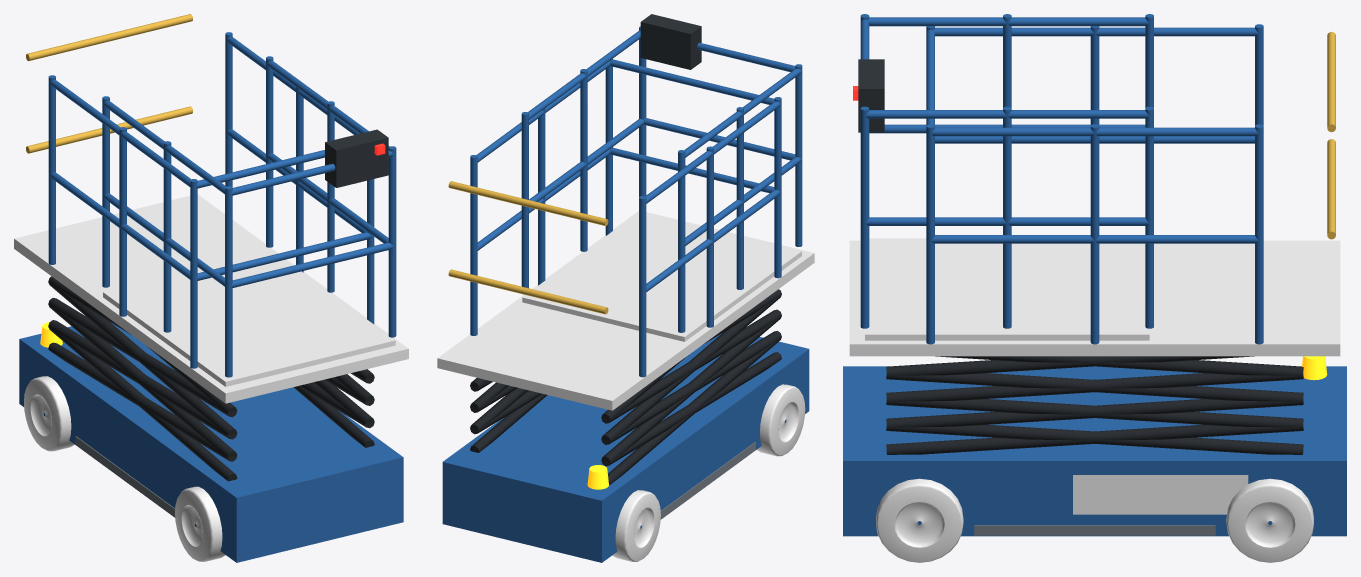
File: equipment--scissorLift.glb
3 views of the same model, side by side, from view 1: azimuth 30°, elevation 25°; view 2: azimuth 150°, elevation 25°; view 3: azimuth 270°, elevation 25° (orthographic). The views are drawn at different scales.
Parts seen in each view (by area): view 1: scissorLift:shell, extensionDeck, platform, scissors, controls, axleRear, axleFront, gate, potholeGuards; view 2: scissorLift:shell, platform, extensionDeck, scissors, controls, axleRear, axleFront, gate, potholeGuards, beacon; view 3: scissorLift:shell, platform, extensionDeck, scissors, axleFront, axleRear, potholeGuards, gate, controls.
Part boxes in pixels (x1,y1,x2,y2): scissorLift:shell: (19, 323, 403, 562); extensionDeck: (102, 56, 396, 386); platform: (14, 32, 408, 403); scissors: (48, 276, 374, 481); controls: (325, 129, 388, 187); axleRear: (24, 376, 74, 451); axleFront: (175, 486, 225, 561); gate: (26, 14, 192, 153); potholeGuards: (75, 436, 175, 517); scissorLift:shell: (442, 333, 809, 562); platform: (437, 59, 814, 410); extensionDeck: (521, 26, 802, 341); scissors: (470, 289, 781, 484); controls: (640, 14, 701, 69); axleRear: (612, 490, 660, 561); axleFront: (757, 384, 805, 456); gate: (448, 181, 608, 314); potholeGuards: (660, 442, 755, 519); beacon: (587, 465, 608, 489); scissorLift:shell: (843, 366, 1346, 536); platform: (849, 24, 1340, 356); extensionDeck: (860, 14, 1153, 340); scissors: (886, 356, 1303, 454); axleFront: (876, 478, 963, 562); axleRear: (1226, 478, 1313, 562); potholeGuards: (974, 525, 1215, 535); gate: (1327, 31, 1335, 239); controls: (853, 59, 884, 132).
Size of the model in its own units: 1.16 by 2.34 by 2.3.
